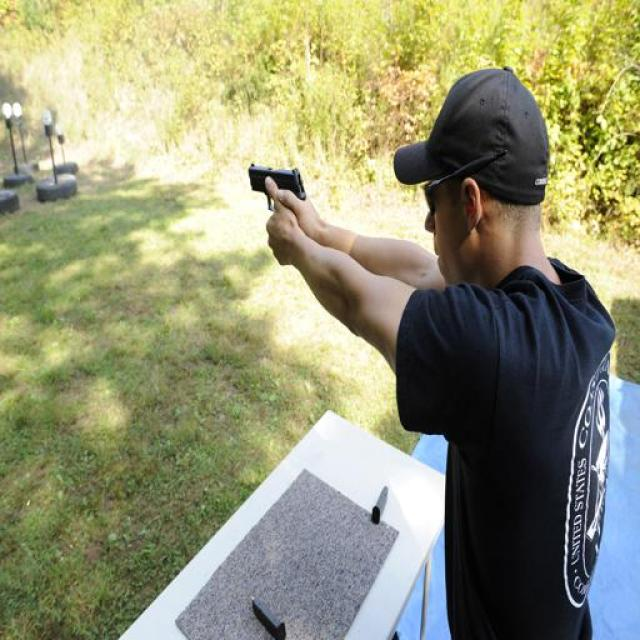pistol: (245, 155, 304, 225)
